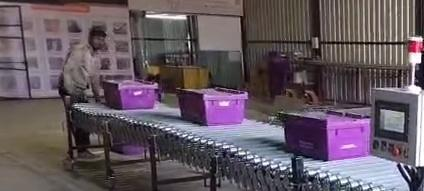box: (280, 112, 370, 160), (177, 88, 247, 125), (102, 80, 157, 109)
